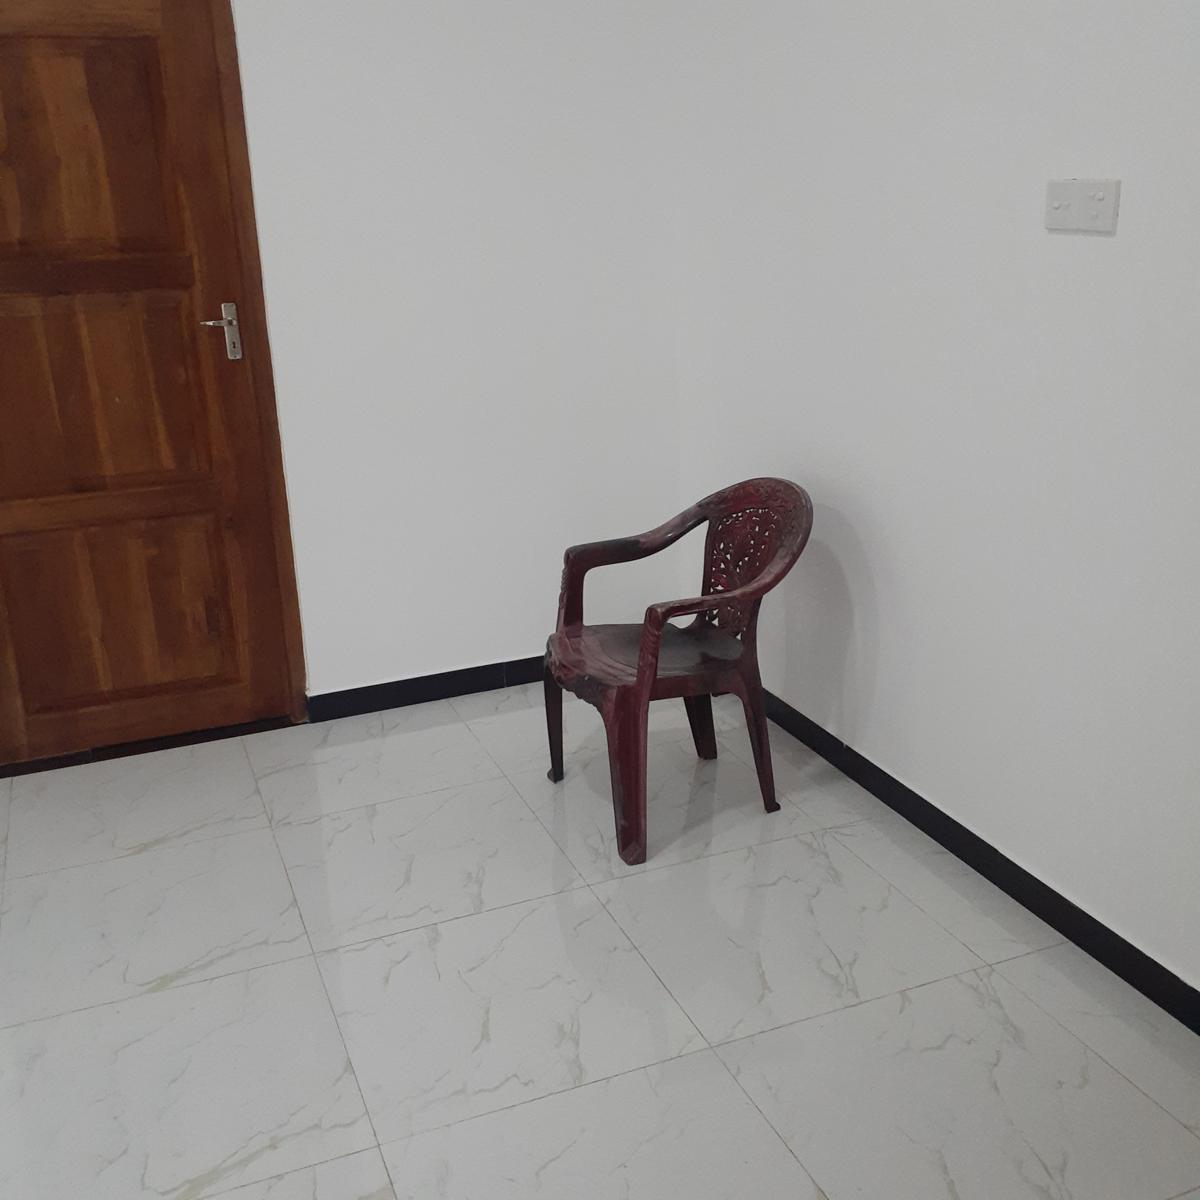Chair: (541, 475, 814, 869)
